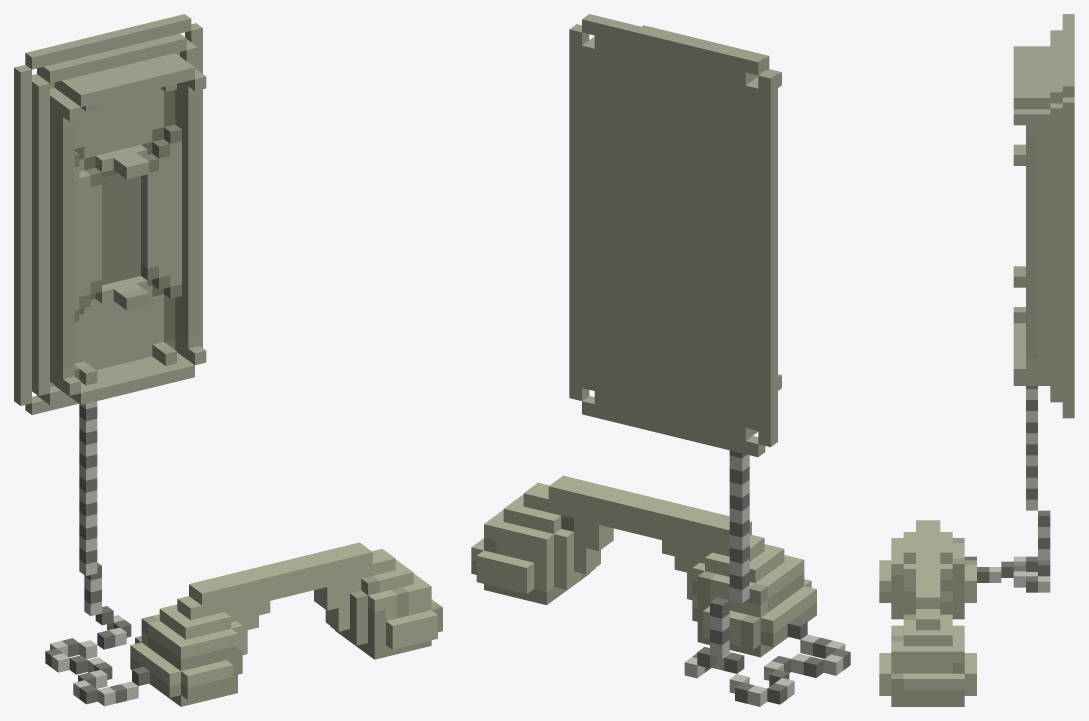
File: 1980s Wall Mounted Landline Phone - On Hold.fbx
3 views of the same model, side by side, from view 1: azimuth 30°, elevation 25°; view 2: azimuth 150°, elevation 25°; view 3: azimuth 270°, elevation 25° (orthographic). The views are drawn at different scales.
Visible parts, largest first — view 1: 1980sWallLandlinePhone-OnHold; view 2: 1980sWallLandlinePhone-OnHold; view 3: 1980sWallLandlinePhone-OnHold.
Part boxes in pixels (x1,y1,x2,y2): 1980sWallLandlinePhone-OnHold: [14, 14, 442, 706]; 1980sWallLandlinePhone-OnHold: [471, 14, 850, 706]; 1980sWallLandlinePhone-OnHold: [879, 14, 1074, 706].
Bounding box in the file's own units: 2900 × 5000 × 1600.
